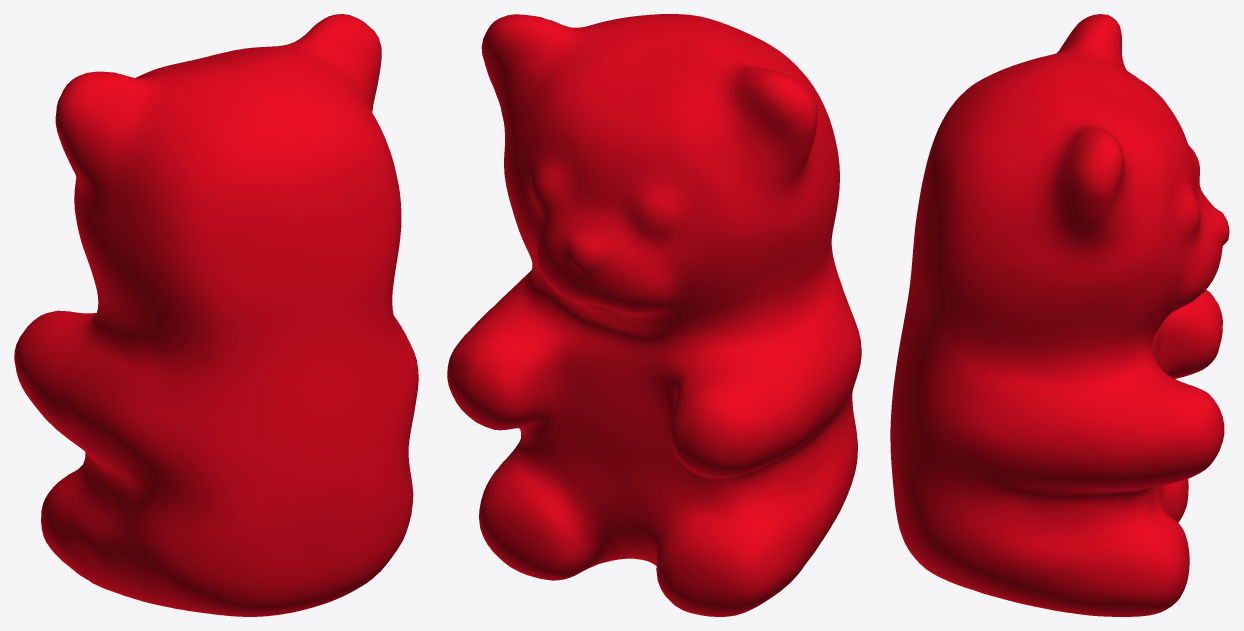
Rendered from Orsetto Rosso.fbx.
The picture shows the model from 3 angles, left to right: view 1: azimuth 30°, elevation 25°; view 2: azimuth 150°, elevation 25°; view 3: azimuth 270°, elevation 25°; orthographic projection. The views are drawn at different scales.
Visible parts, largest first — view 1: gummy bear.150; view 2: gummy bear.150; view 3: gummy bear.150.
Boxes of the visible parts, box(x1,y1,x2,y2) form: gummy bear.150: box(14, 14, 418, 616); gummy bear.150: box(447, 14, 861, 616); gummy bear.150: box(890, 14, 1229, 616).
Bounding box in the file's own units: 427 × 655 × 404.
